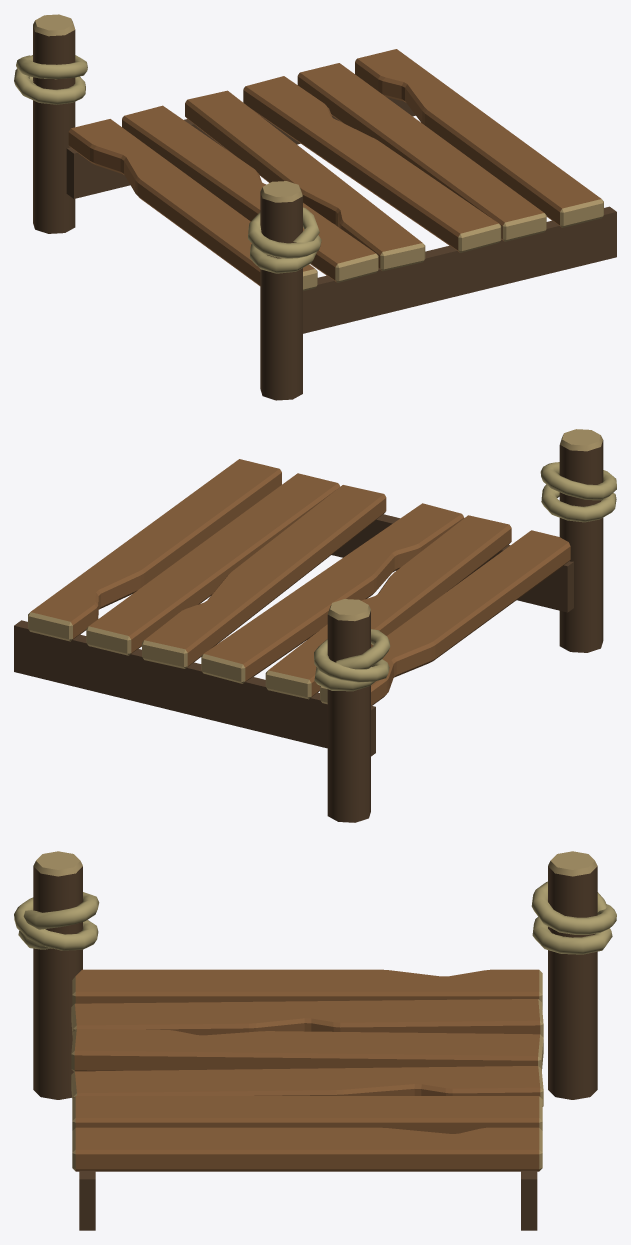
Rendered from dock.glb.
3 renders of one model, top to bottom at view 1: azimuth 30°, elevation 25°; view 2: azimuth 150°, elevation 25°; view 3: azimuth 270°, elevation 25°, orthographic. The views are drawn at different scales.
Visible parts, largest first — view 1: Environment_Dock; view 2: Environment_Dock; view 3: Environment_Dock.
Boxes of the visible parts, box(x1,y1,x2,y2) form: Environment_Dock: box(14, 14, 616, 400); Environment_Dock: box(14, 429, 616, 822); Environment_Dock: box(14, 851, 616, 1230).
Size of the model in its own units: 2.18 by 1.11 by 2.66.
1 material, 1 textured.
